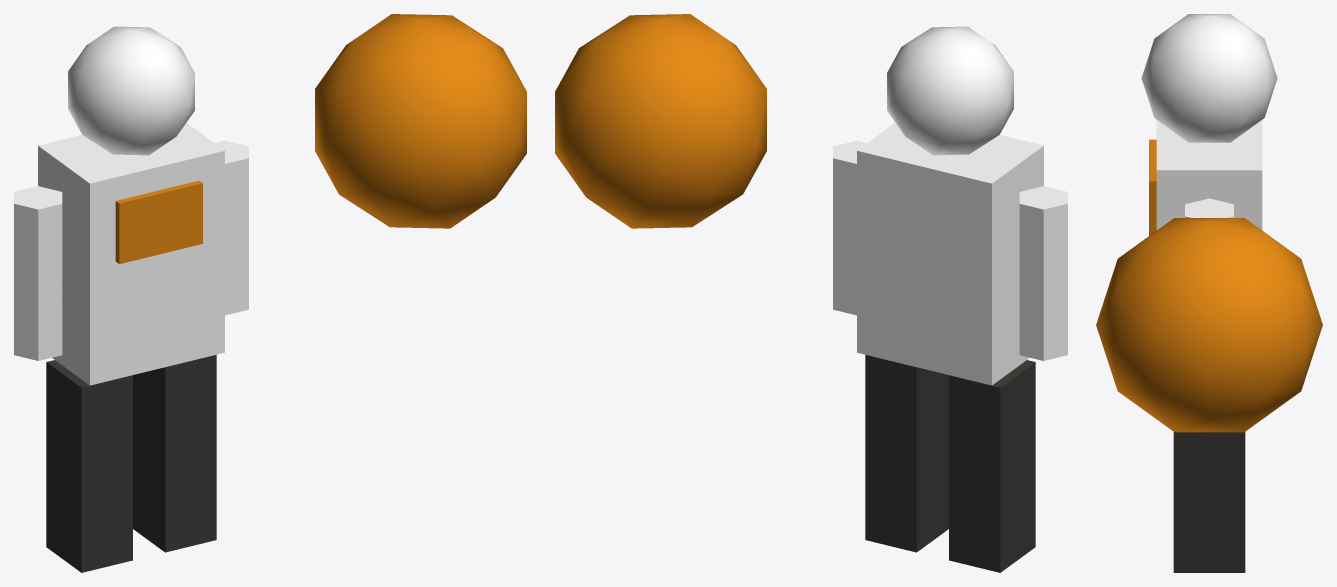
Rendered from R3_incident_response_team_office_hours.glb.
3 views of the same model, side by side, from view 1: azimuth 30°, elevation 25°; view 2: azimuth 150°, elevation 25°; view 3: azimuth 270°, elevation 25° (orthographic).
Parts seen in each view (by area): view 1: instance_white, sun_amber, instance_ink, instance_amber; view 2: instance_white, sun_amber, instance_ink; view 3: sun_amber, instance_white, instance_ink, instance_amber.
Boxes of the visible parts, x1,y1,x2,y2 form: instance_white: [14, 26, 248, 385]; sun_amber: [315, 14, 526, 228]; instance_ink: [46, 354, 216, 572]; instance_amber: [115, 180, 202, 263]; instance_white: [833, 26, 1067, 385]; sun_amber: [555, 14, 766, 228]; instance_ink: [865, 354, 1035, 572]; sun_amber: [1096, 218, 1322, 432]; instance_white: [1141, 14, 1277, 230]; instance_ink: [1173, 432, 1245, 572]; instance_amber: [1149, 139, 1156, 235].
Bounding box in the file's own units: 1.57 × 1.52 × 0.6.
